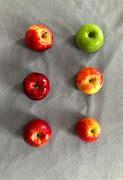apple: (16, 118, 60, 152), (21, 68, 56, 103), (72, 22, 107, 53), (69, 115, 104, 144), (70, 64, 106, 90), (21, 25, 55, 49)
